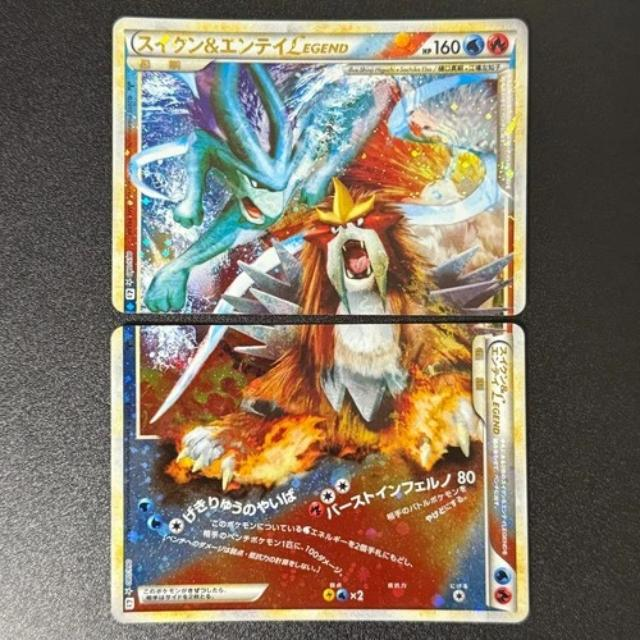Card: (107, 320, 534, 628), (108, 12, 530, 319)
Name: (132, 30, 353, 60), (487, 341, 514, 439)
